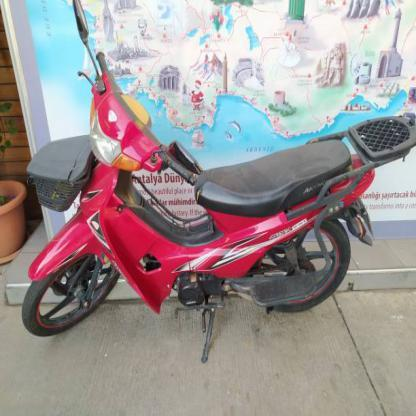Motorcycle: (19, 0, 409, 369)
